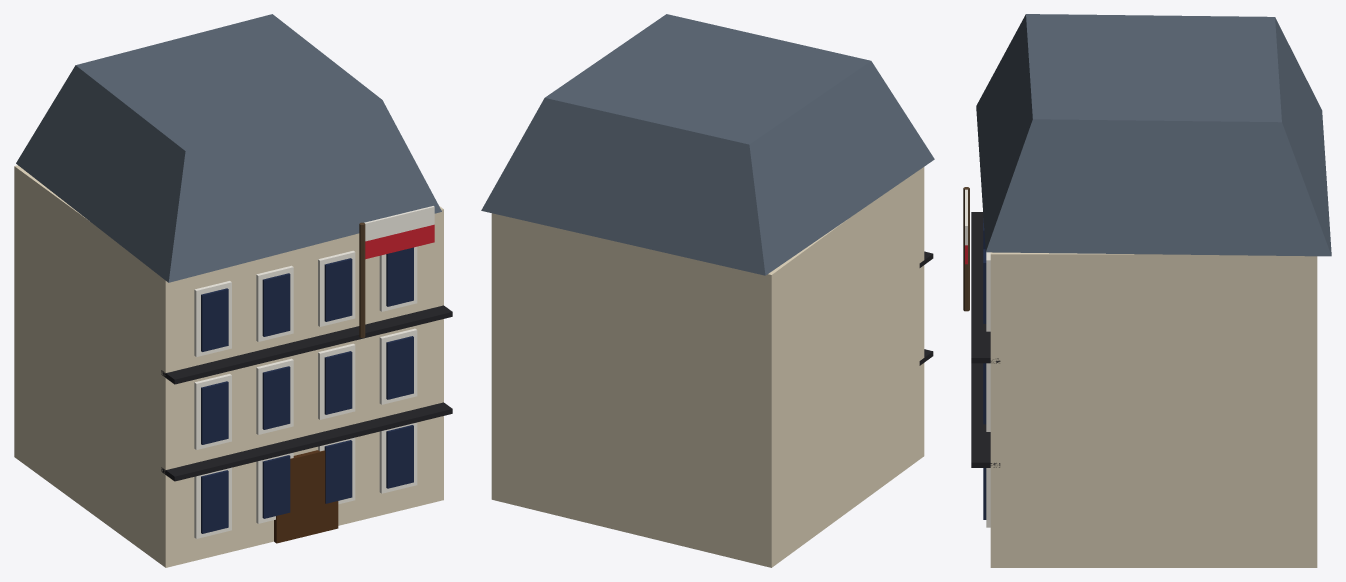
Rendered from delegacja.glb.
3 views of the same model, side by side, from view 1: azimuth 30°, elevation 25°; view 2: azimuth 150°, elevation 25°; view 3: azimuth 270°, elevation 25° (orthographic). The views are drawn at different scales.
Visible parts, largest first — view 1: delegacja; view 2: delegacja; view 3: delegacja.
Part boxes in pixels (x1,y1,x2,y2): delegacja: [14, 14, 452, 567]; delegacja: [481, 14, 934, 567]; delegacja: [963, 14, 1331, 567].
Bounding box in the file's own units: 3.7 × 4.9 × 3.84.
